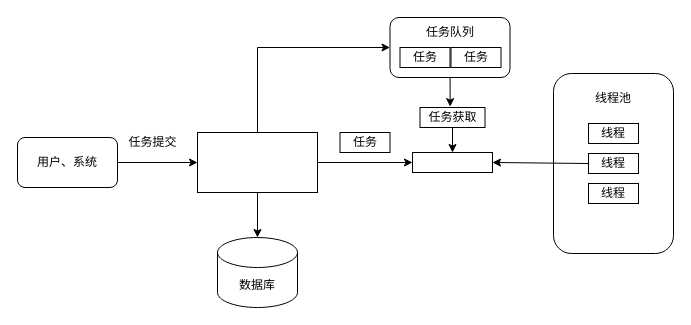
This 691x325 diagram has some shape labels left out. The shapes that lost their labels are listed below. From the top down, each one's centre as x and y in pixels, then its label:
At (x=257, y=162): "任务入库并提交".
At (x=452, y=162): "线程执行任务".
